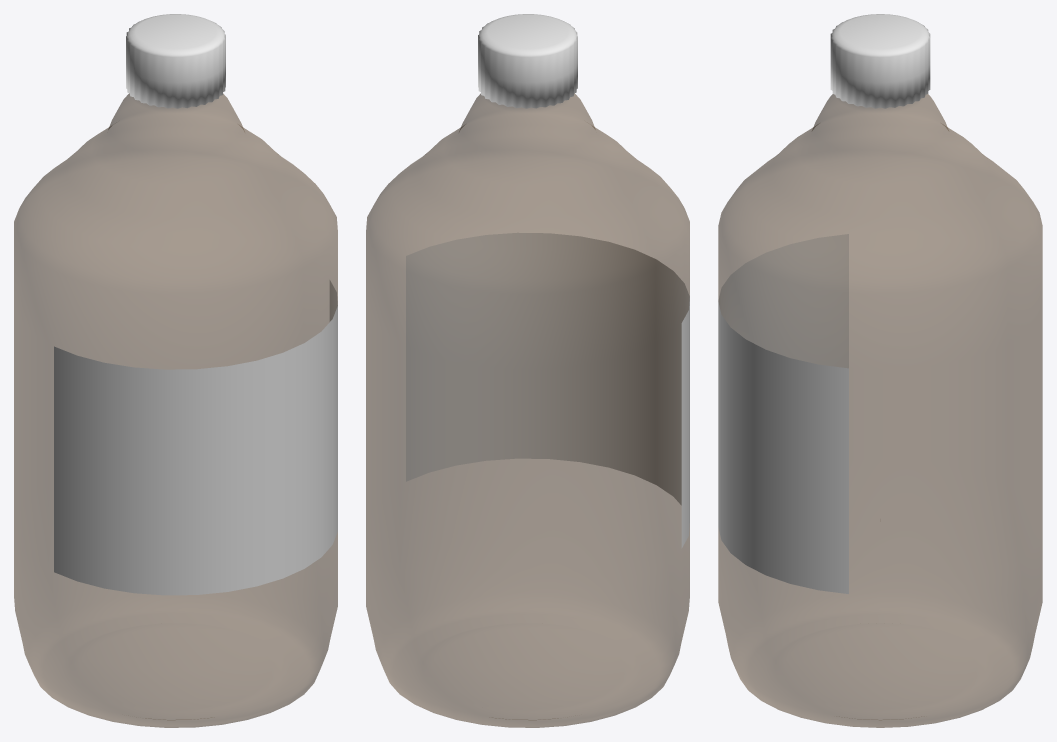
File: MedicineBottleblend.fbx
The picture shows the model from 3 angles, left to right: view 1: azimuth 30°, elevation 25°; view 2: azimuth 150°, elevation 25°; view 3: azimuth 270°, elevation 25°; orthographic projection.
Visible parts, largest first — view 1: Cylinder; view 2: Cylinder; view 3: Cylinder.
Boxes of the visible parts, x1,y1,x2,y2 form: Cylinder: (14, 14, 337, 727); Cylinder: (366, 14, 689, 727); Cylinder: (718, 14, 1042, 727).
Bounding box in the file's own units: 200 × 435 × 200.
